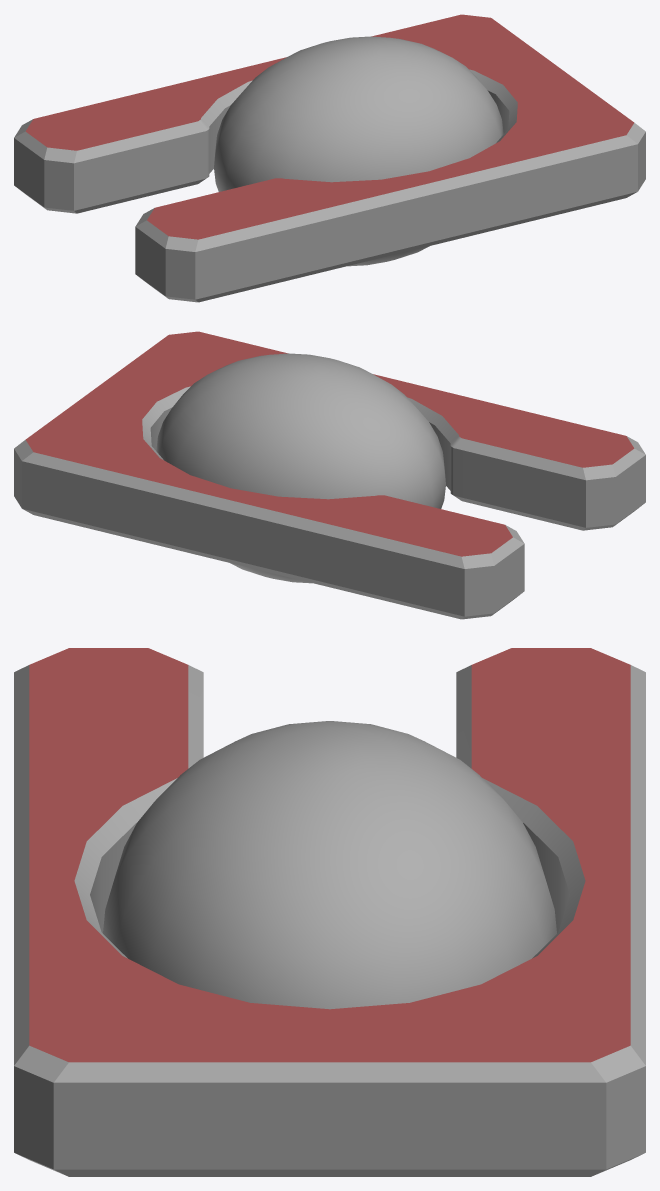
File: Modo_Vehicule3.fbx
3 renders of one model, top to bottom at view 1: azimuth 30°, elevation 25°; view 2: azimuth 150°, elevation 25°; view 3: azimuth 270°, elevation 25°, orthographic. The views are drawn at different scales.
Visible parts, largest first — view 1: CoreVehicule, Capsule; view 2: CoreVehicule, Capsule; view 3: CoreVehicule, Capsule.
Boxes of the visible parts, x1,y1,x2,y2 form: CoreVehicule: (14, 14, 645, 302); Capsule: (214, 36, 503, 266); CoreVehicule: (14, 331, 645, 619); Capsule: (156, 353, 445, 583); CoreVehicule: (14, 648, 645, 1176); Capsule: (103, 721, 556, 1009).
Bounding box in the file's own units: 400 × 160 × 250.
